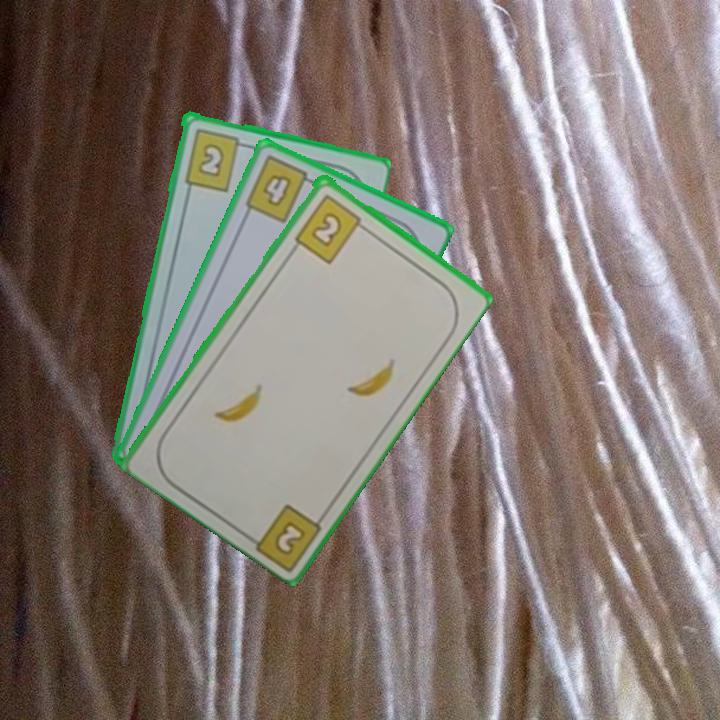2b: (291, 190, 370, 266), (181, 124, 251, 193), (270, 516, 309, 558)
4b: (241, 152, 320, 226)
